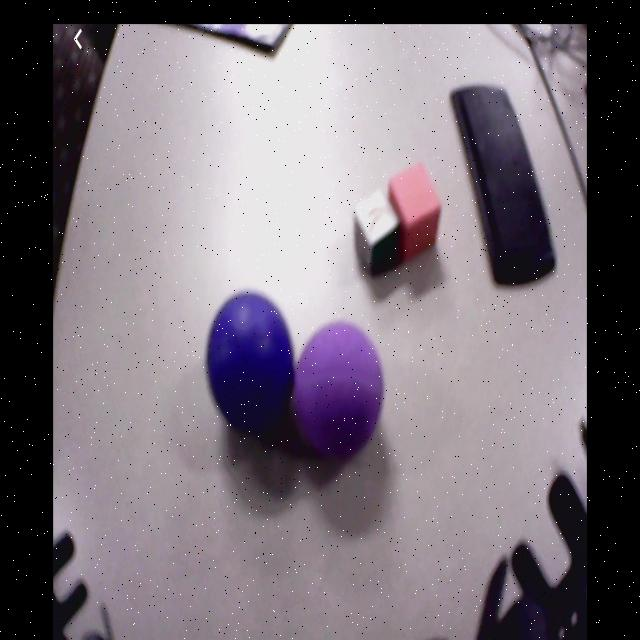ball: (294, 323, 383, 454), (208, 294, 292, 425)
